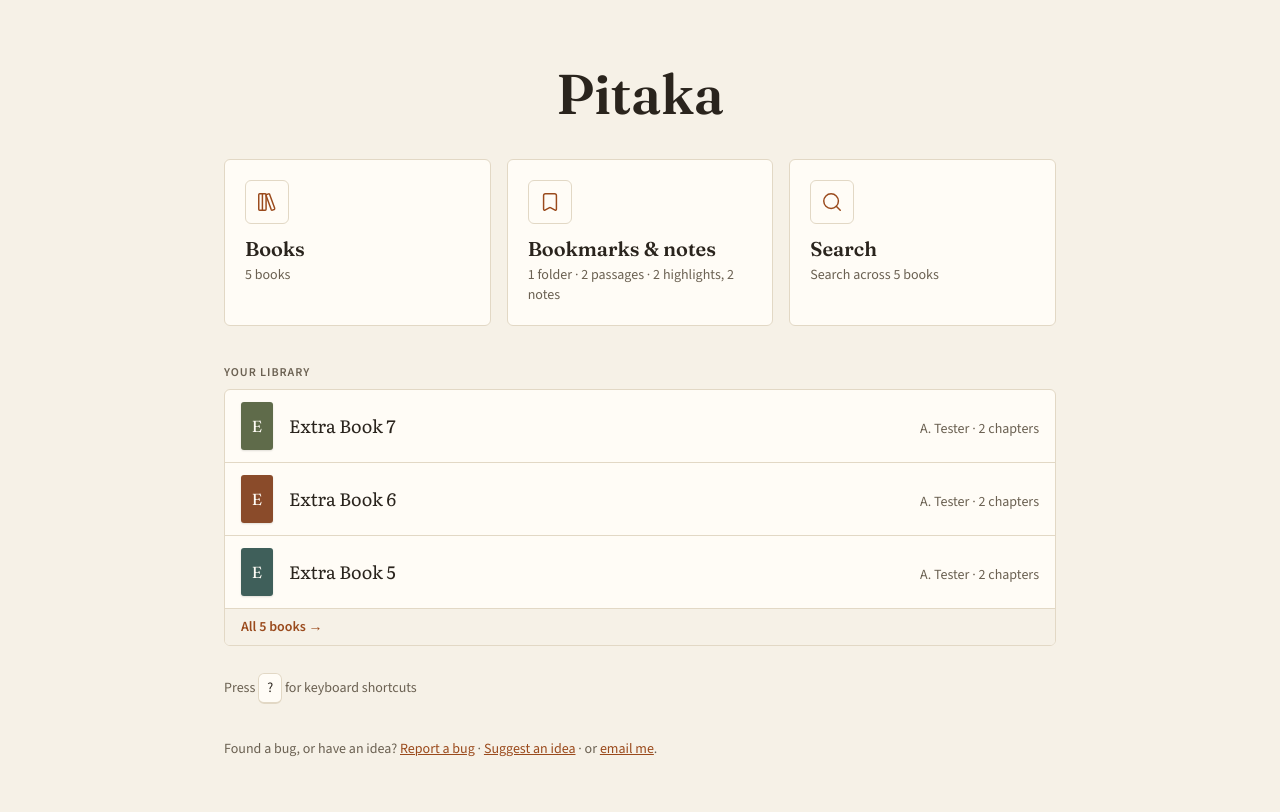
Test: home › links to the rest of the library when it has more than 3 books
Click the button "All 5 books →". click: (294, 627)
box: 225,609 -> 1055,645
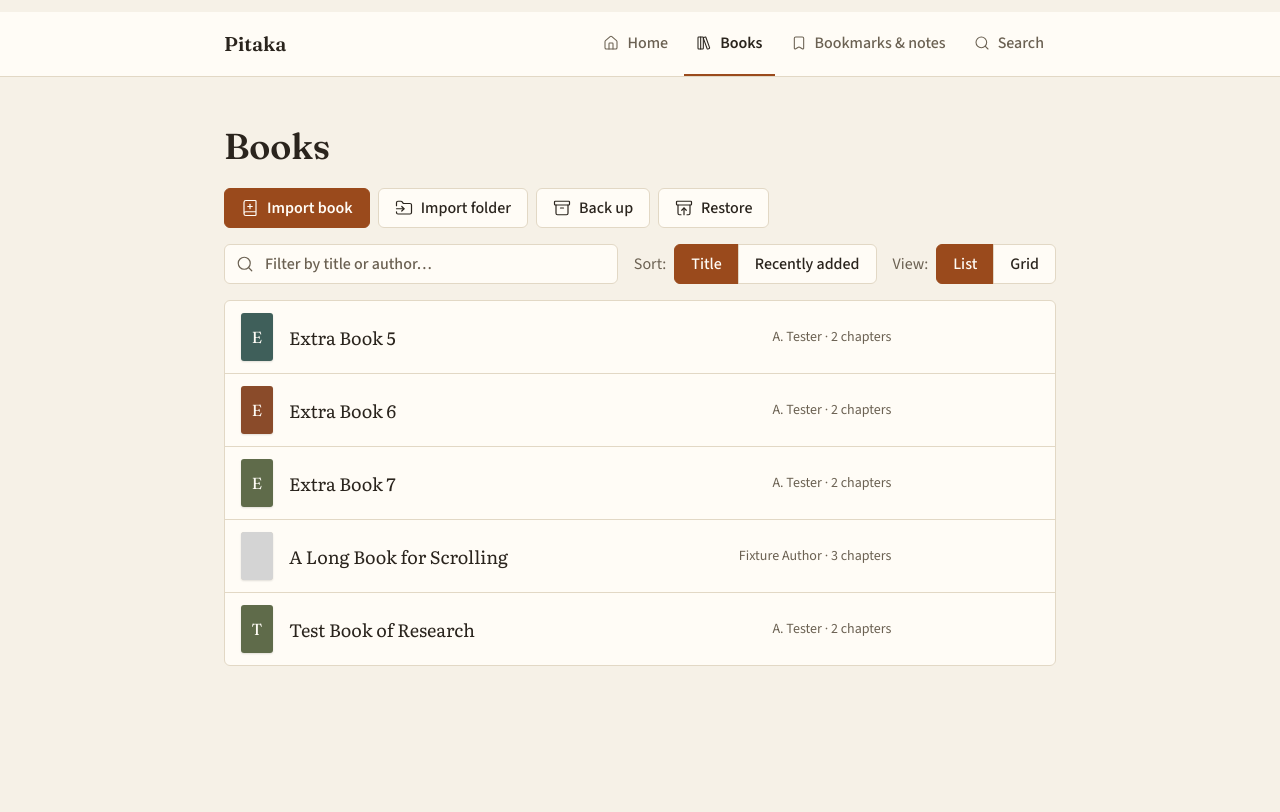
Expected: the heading "Books" is shown, 224,124 -> 330,168
